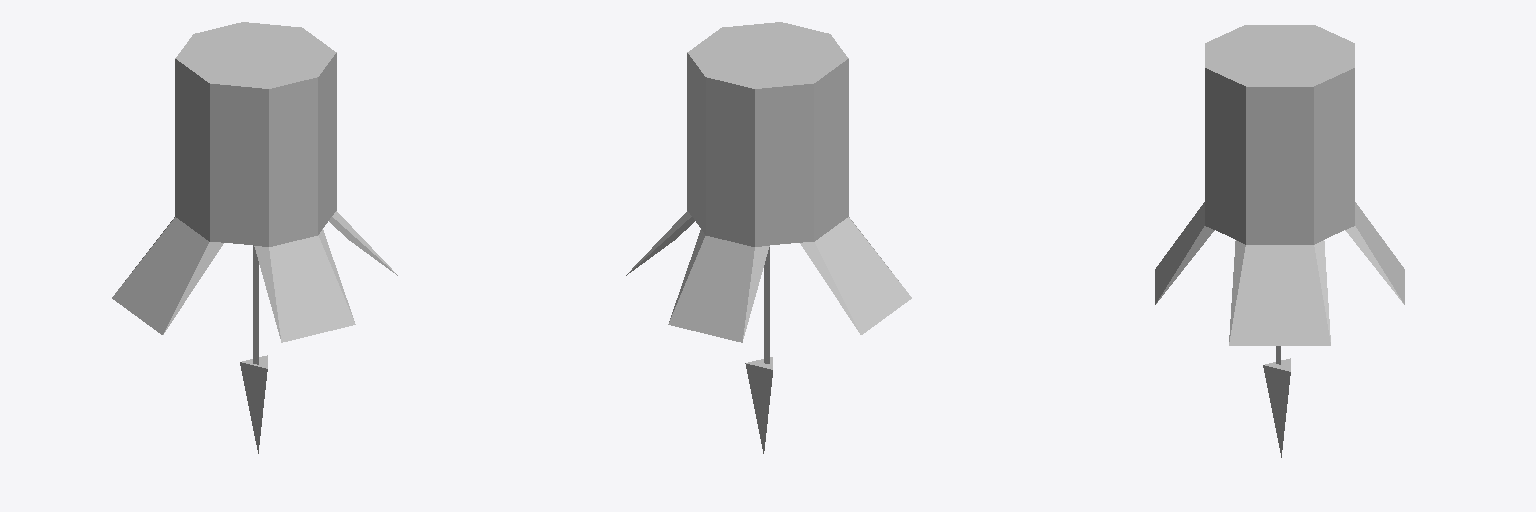
The model's file is light_spot.obj.
3 renders of one model, left to right at view 1: azimuth 30°, elevation 25°; view 2: azimuth 150°, elevation 25°; view 3: azimuth 270°, elevation 25°, orthographic.
Parts seen in each view (by area): view 1: <SMD_root>; view 2: <SMD_root>; view 3: <SMD_root>.
Boxes of the visible parts, <box> form: <SMD_root>: <box>112,22,397,453</box>; <SMD_root>: <box>626,22,911,453</box>; <SMD_root>: <box>1155,25,1404,457</box>.
Size of the model in its own units: 10.91 by 17.6 by 9.97.